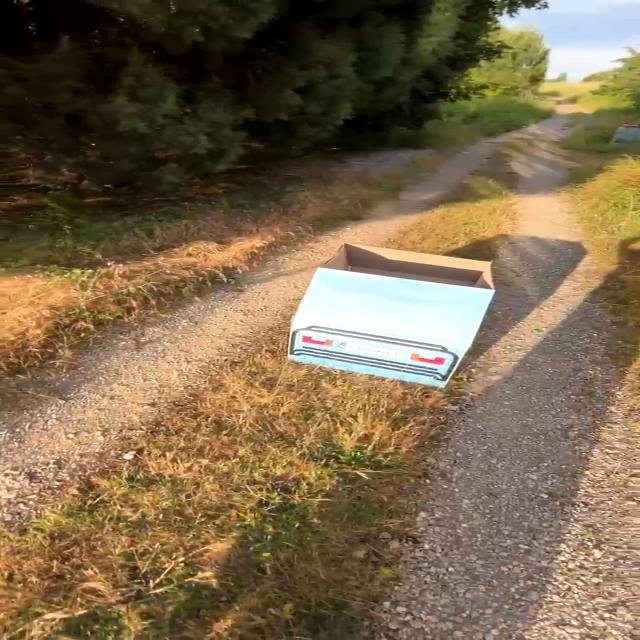blue_car: (230, 214, 514, 443)
